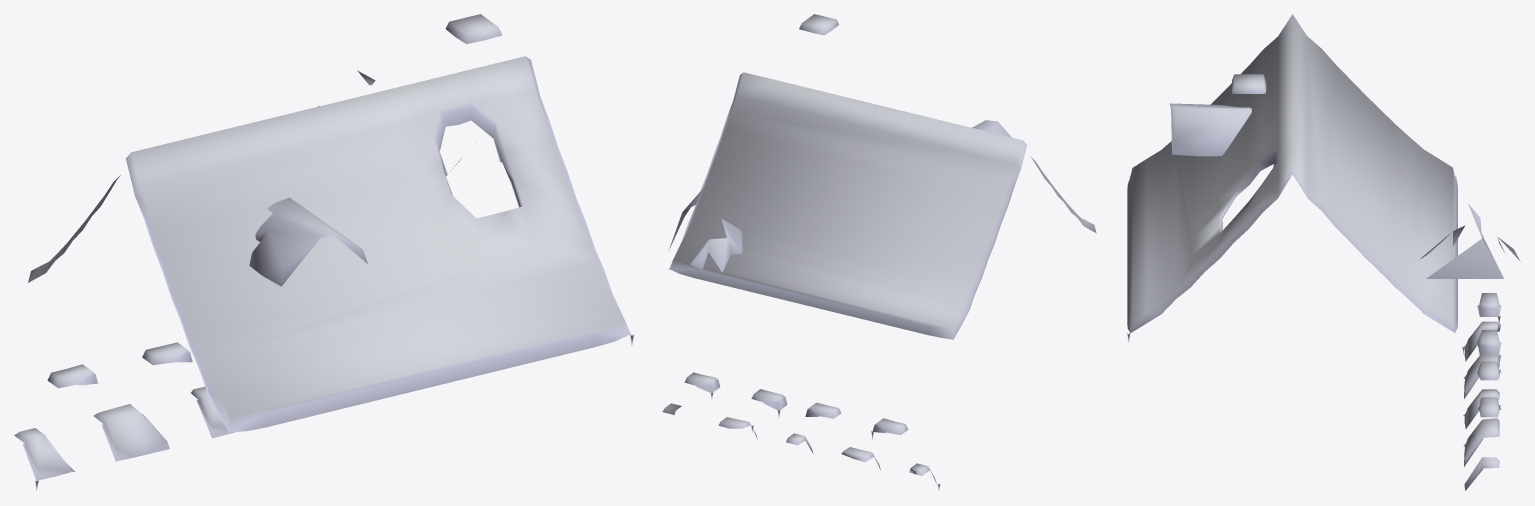
The model's file is hall.wallet.snow.glb.
3 views of the same model, side by side, from view 1: azimuth 30°, elevation 25°; view 2: azimuth 150°, elevation 25°; view 3: azimuth 270°, elevation 25° (orthographic). The views are drawn at different scales.
Visible parts, largest first — view 1: snow, tier.2; view 2: snow, tier.4; view 3: snow, tier.2, tier.4.
Part boxes in pixels (x1,y1,x2,y2): snow: [14, 14, 633, 491]; tier.2: [249, 197, 367, 286]; snow: [662, 14, 1096, 490]; tier.4: [668, 187, 743, 272]; snow: [1127, 14, 1501, 490]; tier.2: [1169, 103, 1251, 156]; tier.4: [1419, 203, 1520, 278].
Size of the model in its own units: 4.38 by 5.07 by 4.59.
